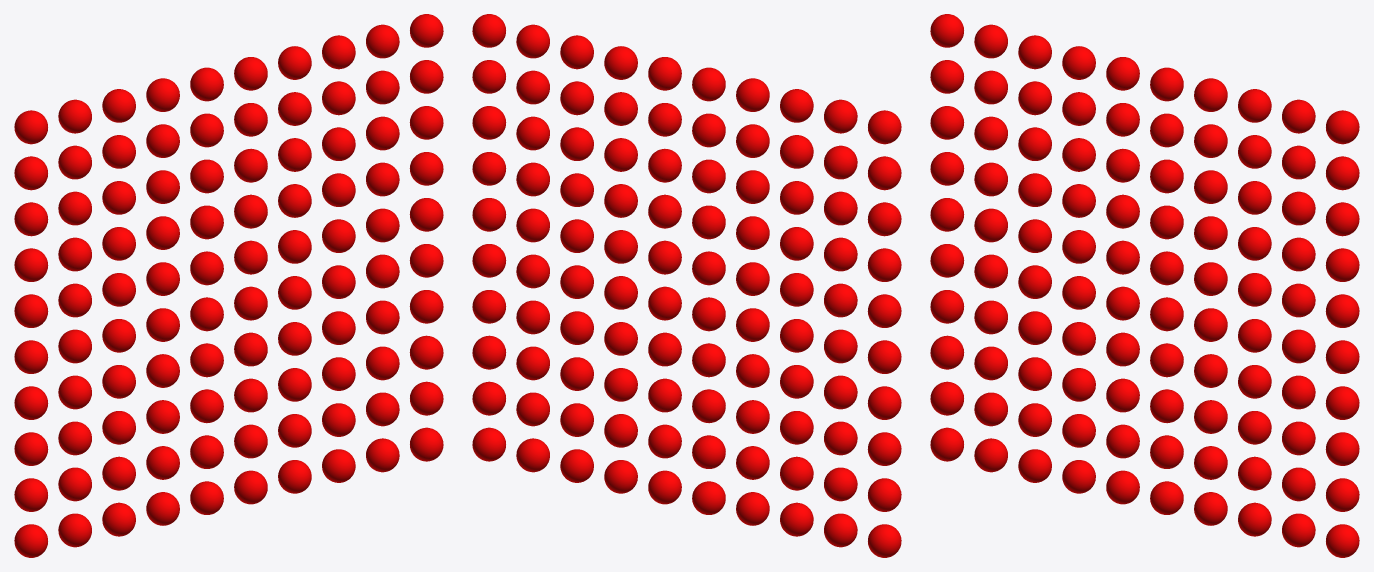
The model's file is shpere.glb.
3 renders of one model, left to right at view 1: azimuth 30°, elevation 25°; view 2: azimuth 150°, elevation 25°; view 3: azimuth 330°, elevation 25°, orthographic.
Parts seen in each view (by area): view 1: Mesh_24, Mesh_25, Mesh_31, Mesh_43, Mesh_45, Mesh_46, Mesh_53, Mesh_54, Mesh_56, Mesh_68, Mesh_74, Mesh_75 (+88 smaller); view 2: Mesh_24, Mesh_25, Mesh_31, Mesh_43, Mesh_45, Mesh_46, Mesh_53, Mesh_54, Mesh_56, Mesh_68, Mesh_74, Mesh_75 (+88 smaller); view 3: Mesh_24, Mesh_25, Mesh_38, Mesh_43, Mesh_44, Mesh_46, Mesh_53, Mesh_55, Mesh_56, Mesh_61, Mesh_74, Mesh_75 (+88 smaller).
Part boxes in pixels (x1,y1,x2,y2): Mesh_24: (102,319,135,352); Mesh_25: (102,273,135,306); Mesh_31: (146,446,179,479); Mesh_43: (190,343,223,377); Mesh_45: (190,251,223,285); Mesh_46: (190,205,223,239); Mesh_53: (234,332,267,366); Mesh_54: (234,286,267,320); Mesh_56: (234,194,267,228); Mesh_68: (278,92,311,125); Mesh_74: (322,265,355,298); Mesh_75: (322,219,355,252); Mesh_24: (780,319,813,352); Mesh_25: (780,273,813,306); Mesh_31: (736,446,769,479); Mesh_43: (692,343,725,377); Mesh_45: (692,251,725,285); Mesh_46: (692,205,725,239); Mesh_53: (648,332,681,366); Mesh_54: (648,286,681,320); Mesh_56: (648,194,681,228); Mesh_68: (604,92,637,125); Mesh_74: (560,265,593,298); Mesh_75: (560,219,593,252); Mesh_24: (1018,265,1051,298); Mesh_25: (1018,219,1051,252); Mesh_38: (1062,92,1095,125); Mesh_43: (1106,332,1139,366); Mesh_44: (1106,286,1139,320); Mesh_46: (1106,194,1139,228); Mesh_53: (1150,343,1183,377); Mesh_55: (1150,251,1183,285); Mesh_56: (1150,205,1183,239); Mesh_61: (1194,446,1227,479); Mesh_74: (1238,319,1271,352); Mesh_75: (1238,273,1271,306).
Size of the model in its own units: 29 by 29 by 2.
